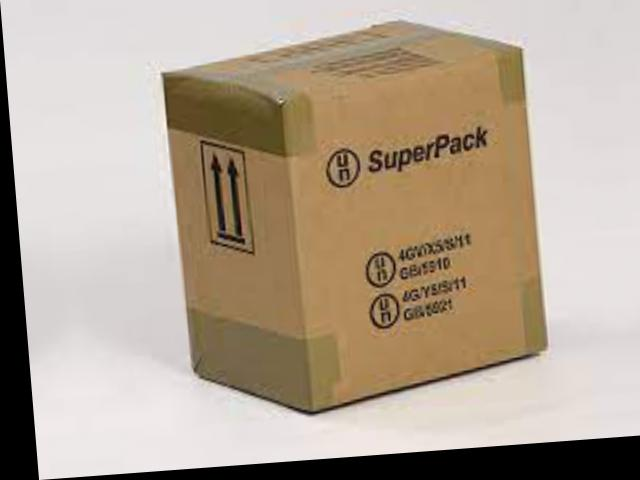package: (160, 9, 560, 414)
